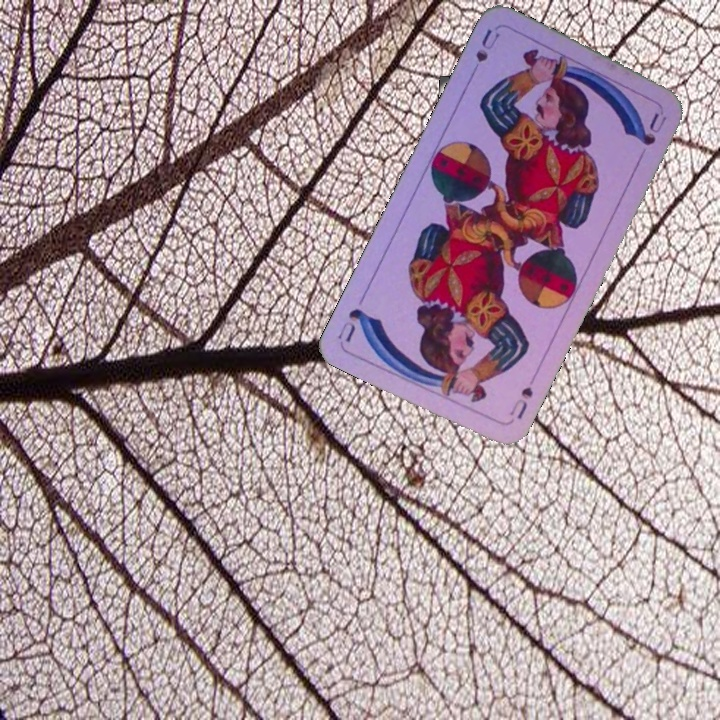SU: (465, 25, 503, 82), (505, 382, 536, 426)
